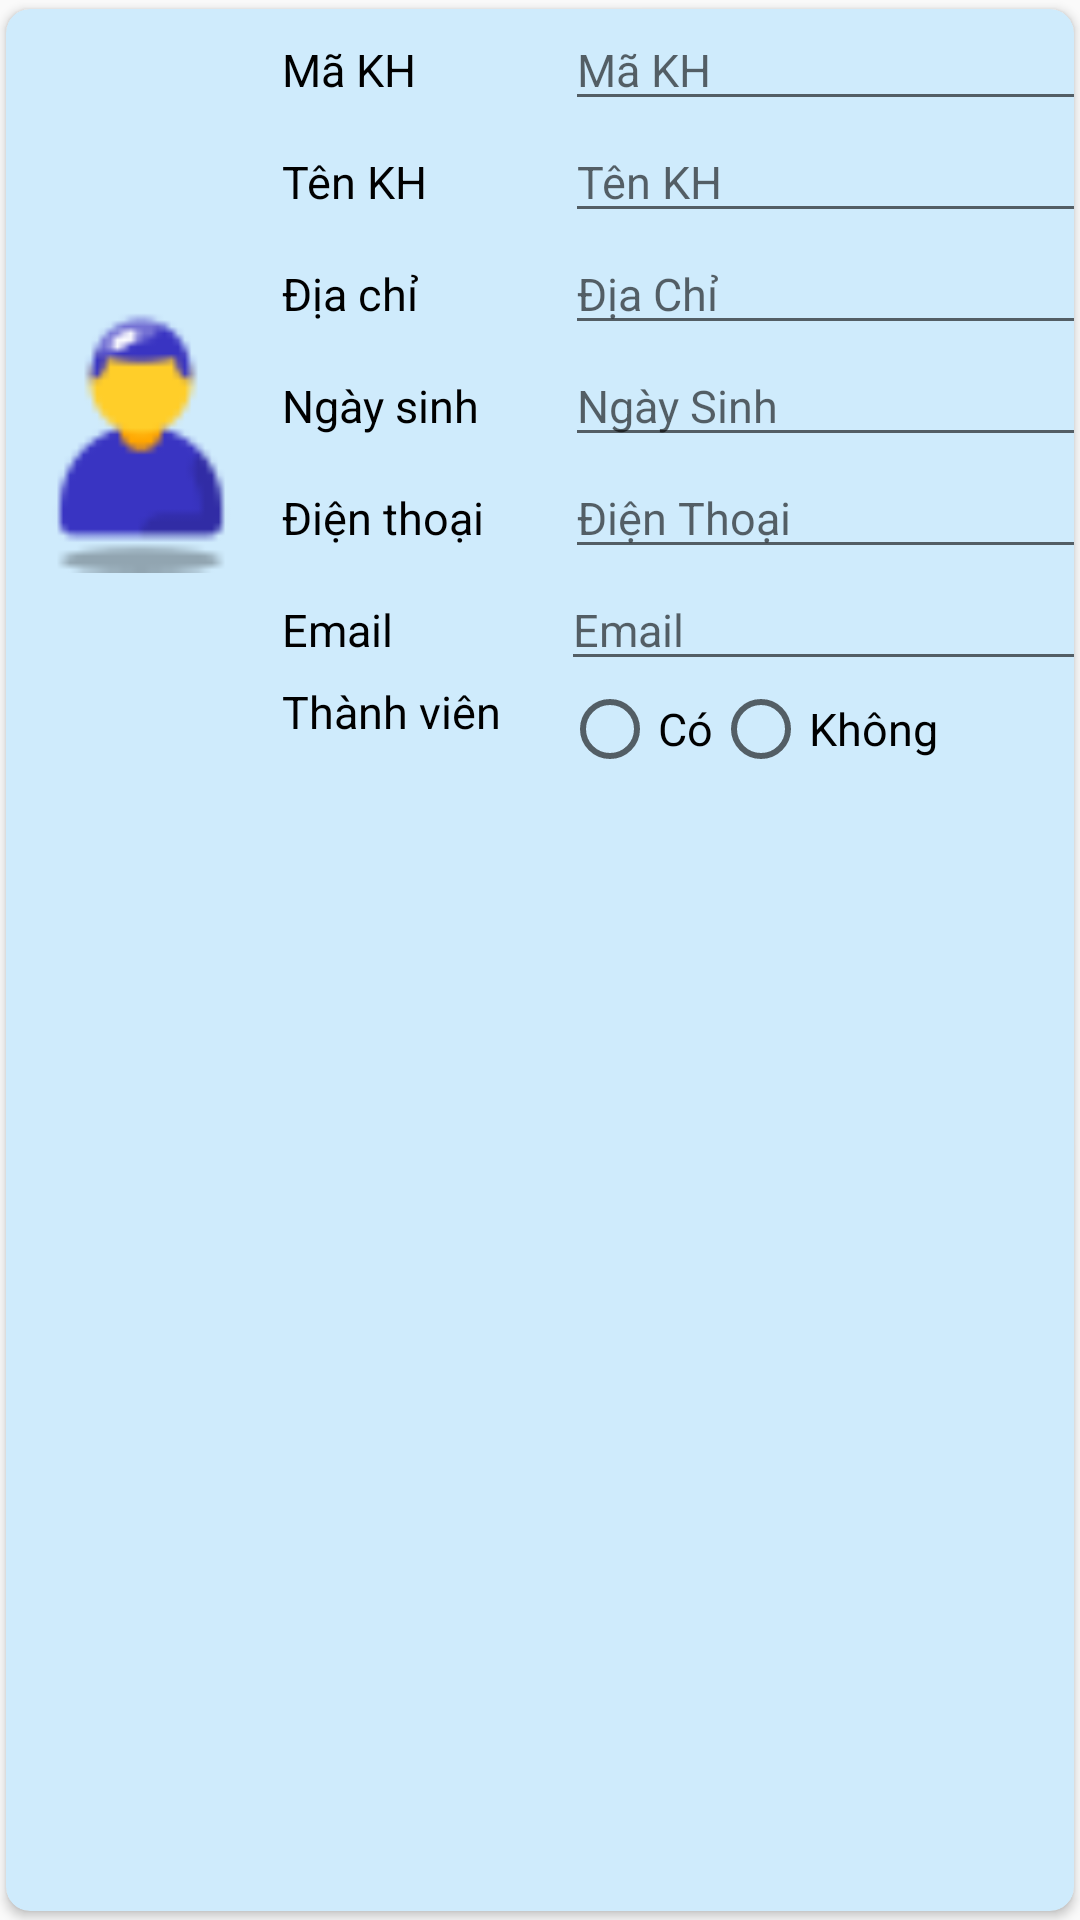

Where to tap for icons on this 1080*1920 app screen, as point (x, y):
khachhang: point (141, 444)
